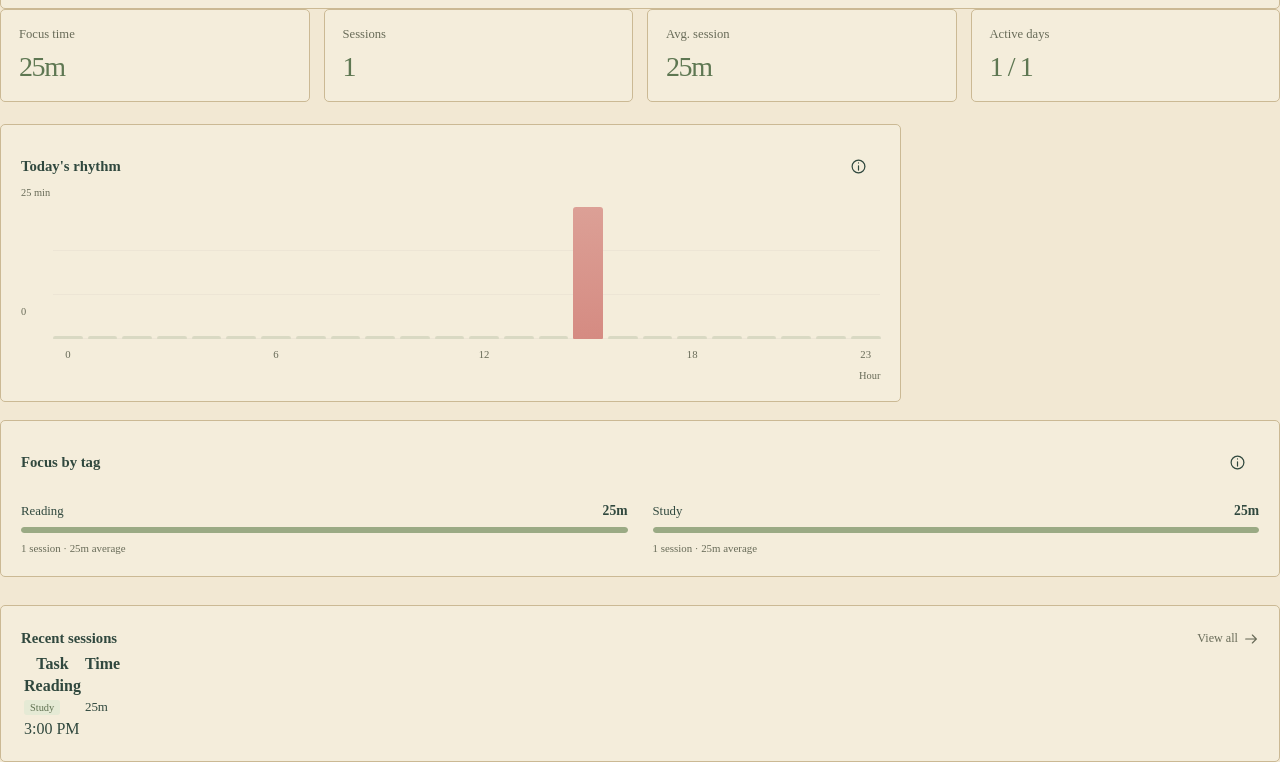
Test: recent sessions omit repeated tag labels while history retains tags and timestamps
(page scrolled)
Expected: the element named "Session tags" reads "Study", [30,702,54,713]
Expected: the element named "Session tags" does not show "Reading", [24,700,60,715]
What coordinates should you click on to do the following:
click the button "View all"
I would click on:
 (1224, 639)
Its box is [1189,626,1259,652].
(page scrolled)
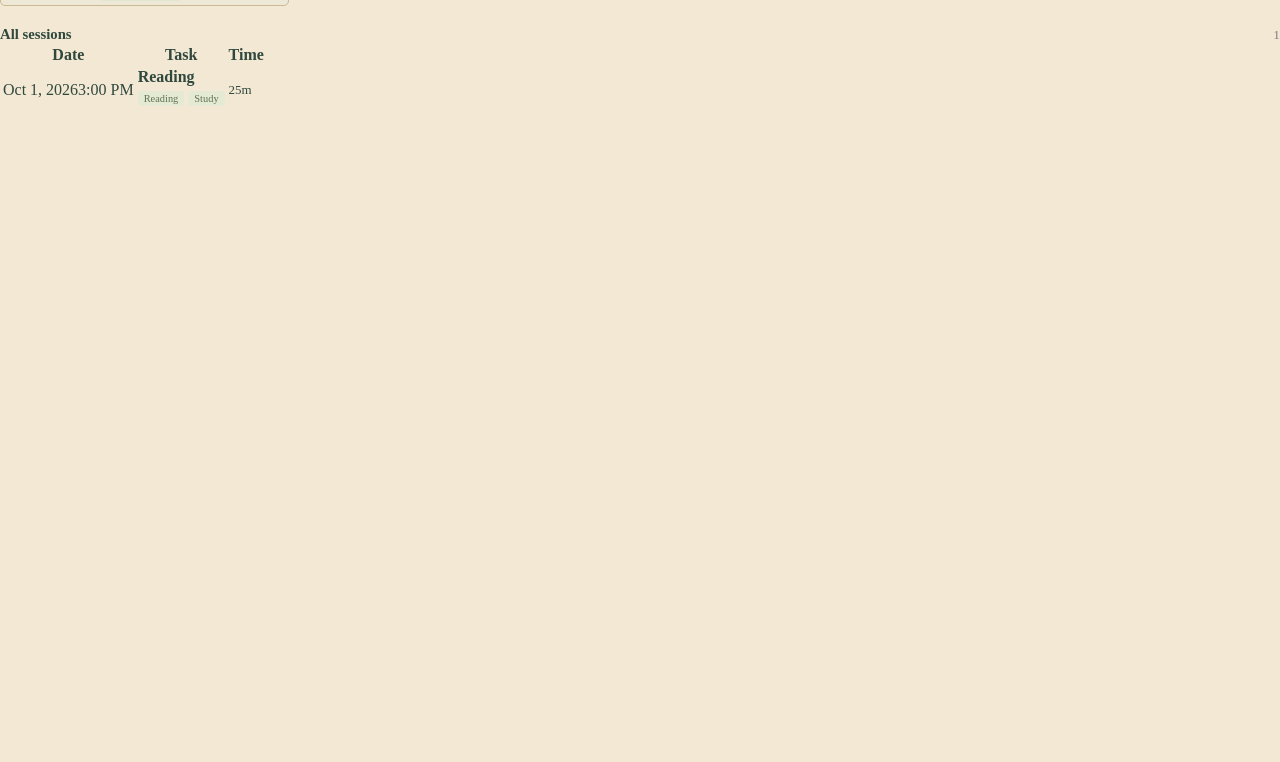
Result: the element named "Session tags" reads "Reading Study" at [138,91,225,106]
